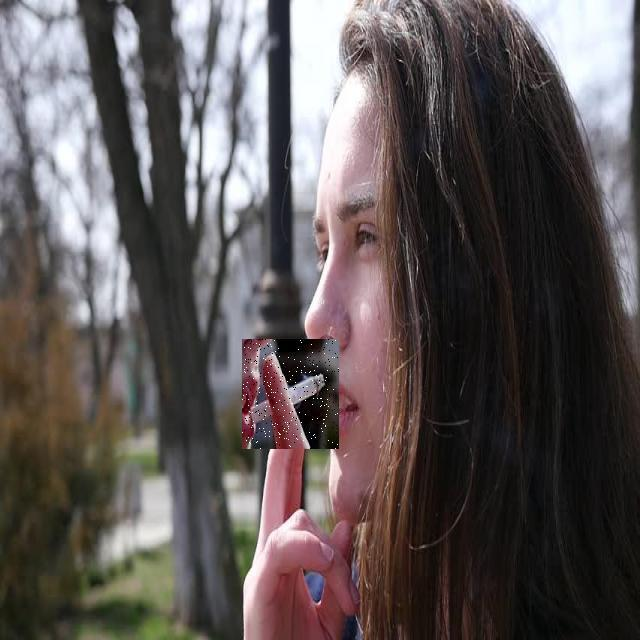smoking: (242, 339, 339, 449)
